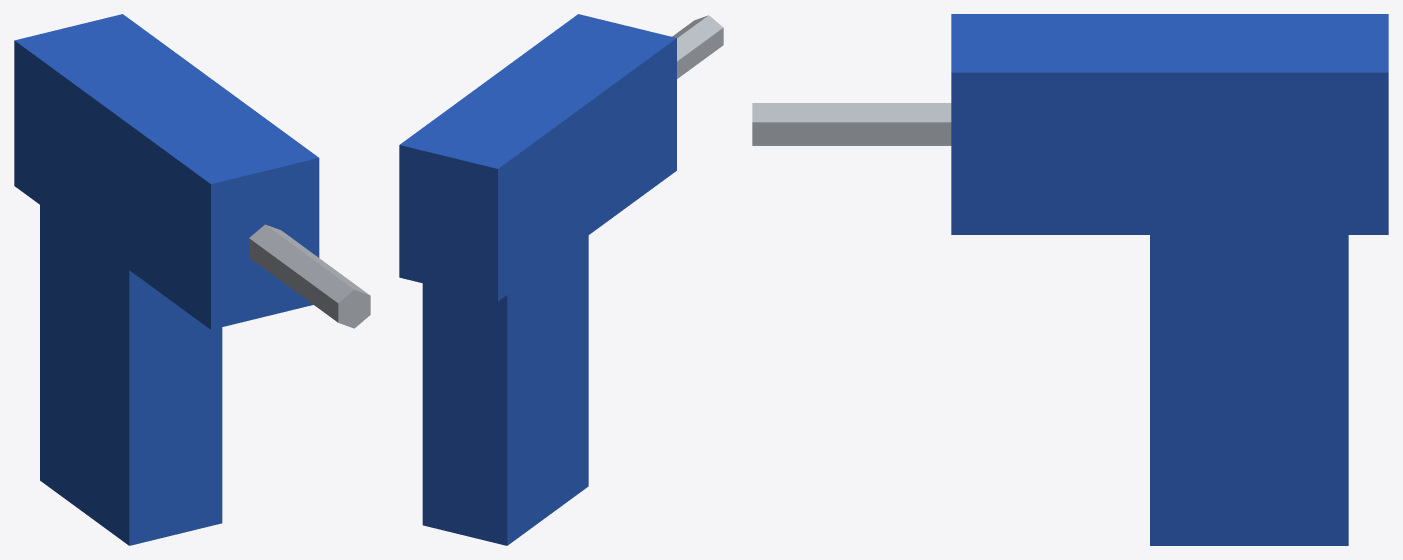
File: garage_power_drill.glb
3 views of the same model, side by side, from view 1: azimuth 30°, elevation 25°; view 2: azimuth 150°, elevation 25°; view 3: azimuth 270°, elevation 25° (orthographic). The views are drawn at different scales.
Parts seen in each view (by area): view 1: power_drill; view 2: power_drill; view 3: power_drill.
Part boxes in pixels (bbox=[...]): power_drill: bbox=[14, 14, 370, 545]; power_drill: bbox=[399, 14, 723, 545]; power_drill: bbox=[752, 14, 1388, 545].
Bounding box in the file's own units: 0.07 × 0.265 × 0.32.
